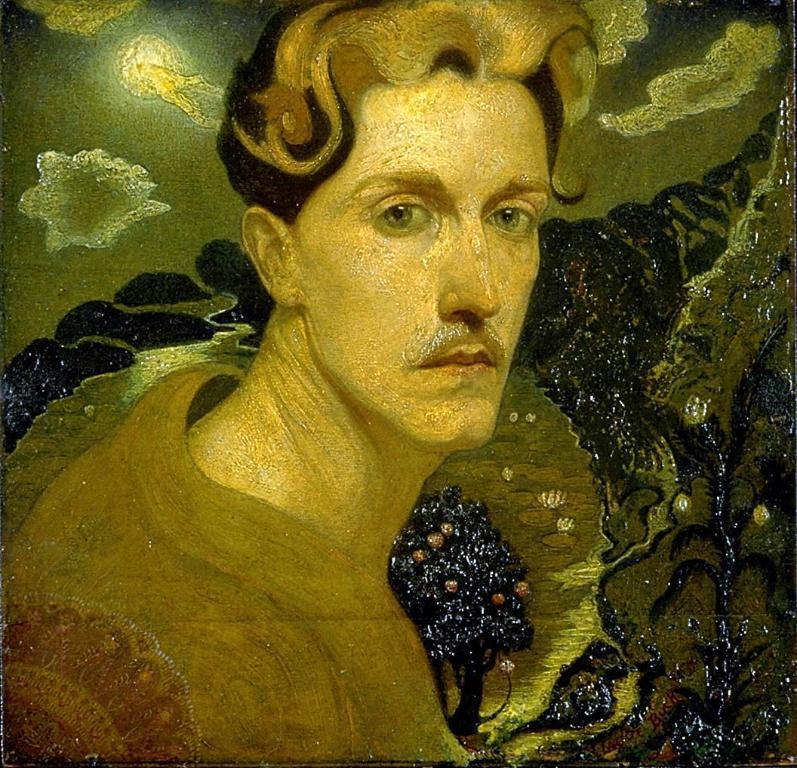Sem Máscara: (292, 77, 552, 446)
